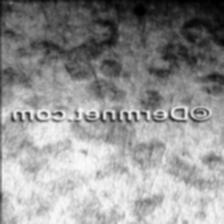Toxin: (130, 1, 148, 18)
